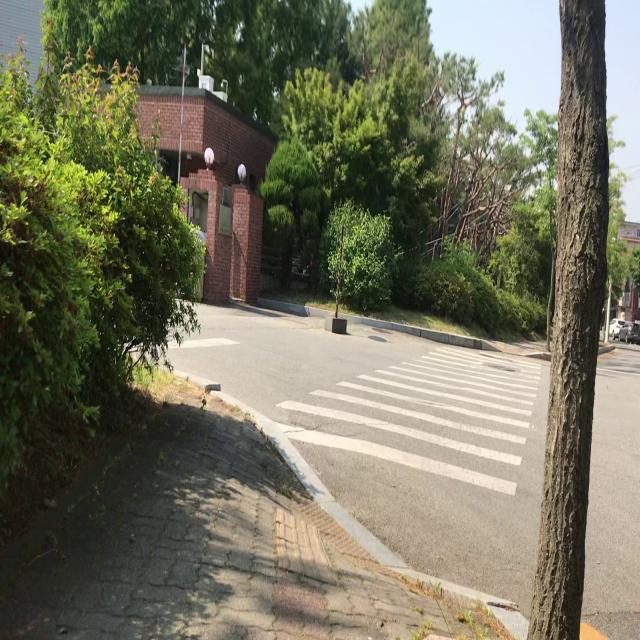횡단보도: (272, 340, 545, 499)
